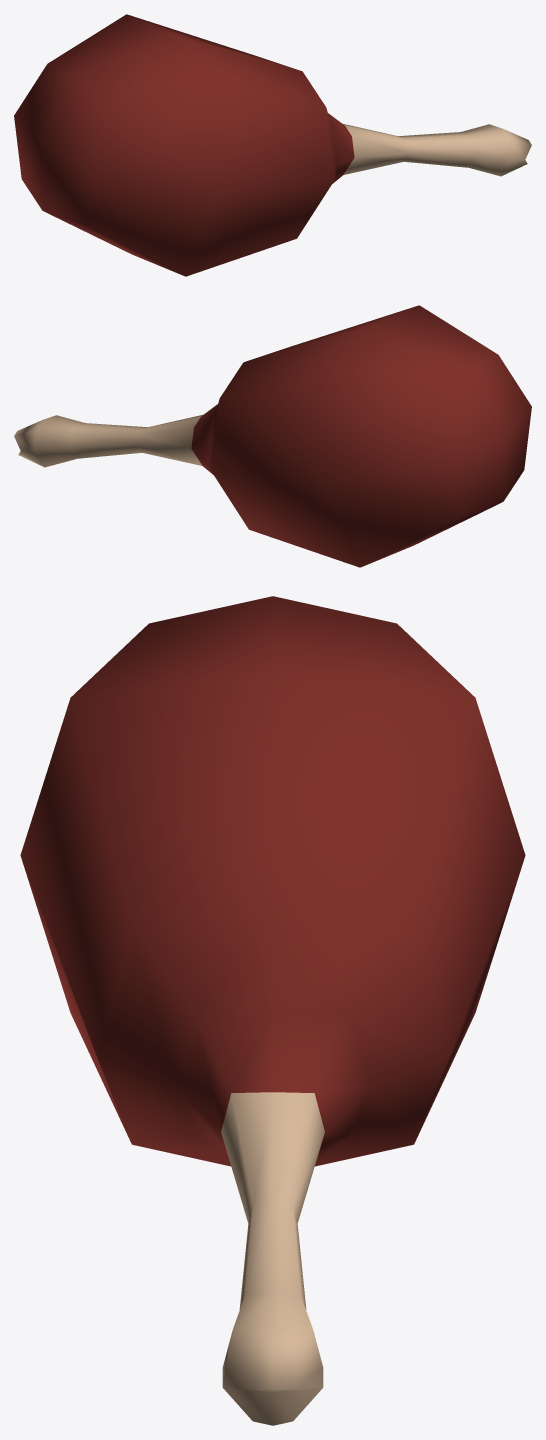
The model's file is Meat.fbx.
The picture shows the model from 3 angles, top to bottom: view 1: azimuth 30°, elevation 25°; view 2: azimuth 150°, elevation 25°; view 3: azimuth 270°, elevation 25°; orthographic projection. The views are drawn at different scales.
Visible parts, largest first — view 1: Cube; view 2: Cube; view 3: Cube.
Part boxes in pixels (x1,y1,x2,y2): Cube: (14, 14, 531, 276); Cube: (14, 305, 531, 567); Cube: (20, 596, 525, 1425).
Size of the model in its own units: 7.63 by 3.18 by 3.43.
